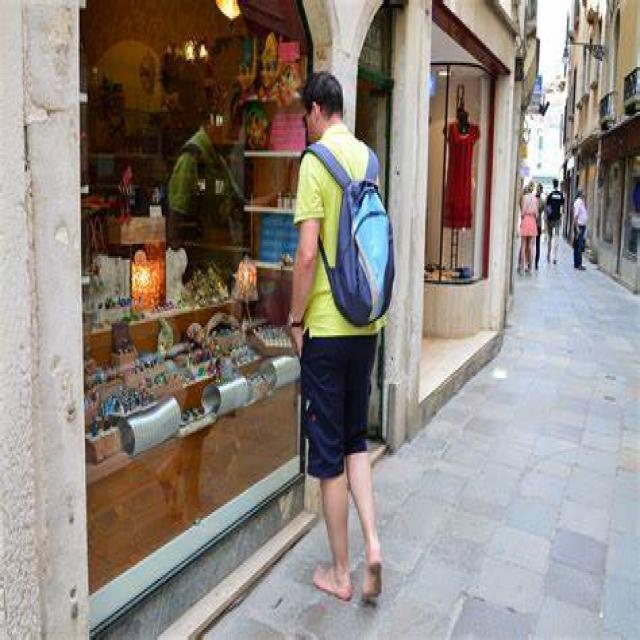No_Harness: (298, 130, 382, 341)
No_Helmet: (305, 68, 345, 108)
No_Shoe: (310, 555, 354, 609), (362, 547, 390, 606)
Person: (286, 60, 395, 612), (520, 182, 544, 275), (568, 186, 591, 270)
